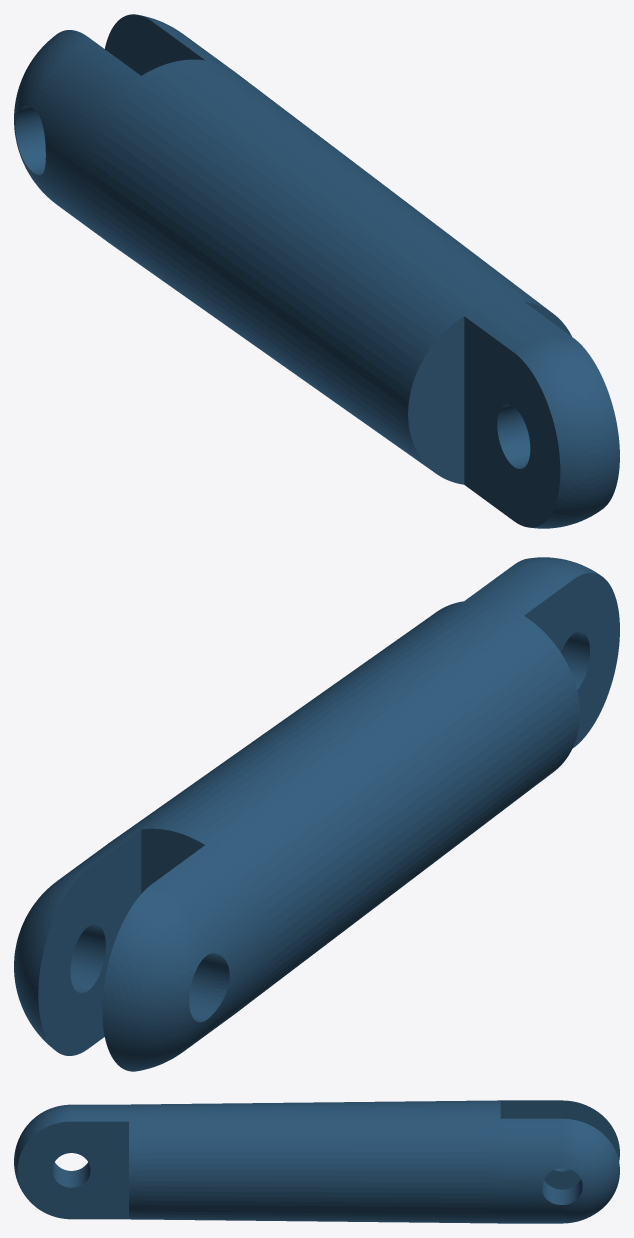
3 views of the same model, one above another, from view 1: azimuth 30°, elevation 25°; view 2: azimuth 150°, elevation 25°; view 3: azimuth 270°, elevation 25° (orthographic). The views are drawn at different scales.
Visible parts, largest first — view 1: node; view 2: node; view 3: node.
Part boxes in pixels (x1,y1,x2,y2): node: (14,14,619,528); node: (14,557,619,1071); node: (14,1100,619,1223).
Size of the model in its own units: 0.0993 by 0.0993 by 0.489.
